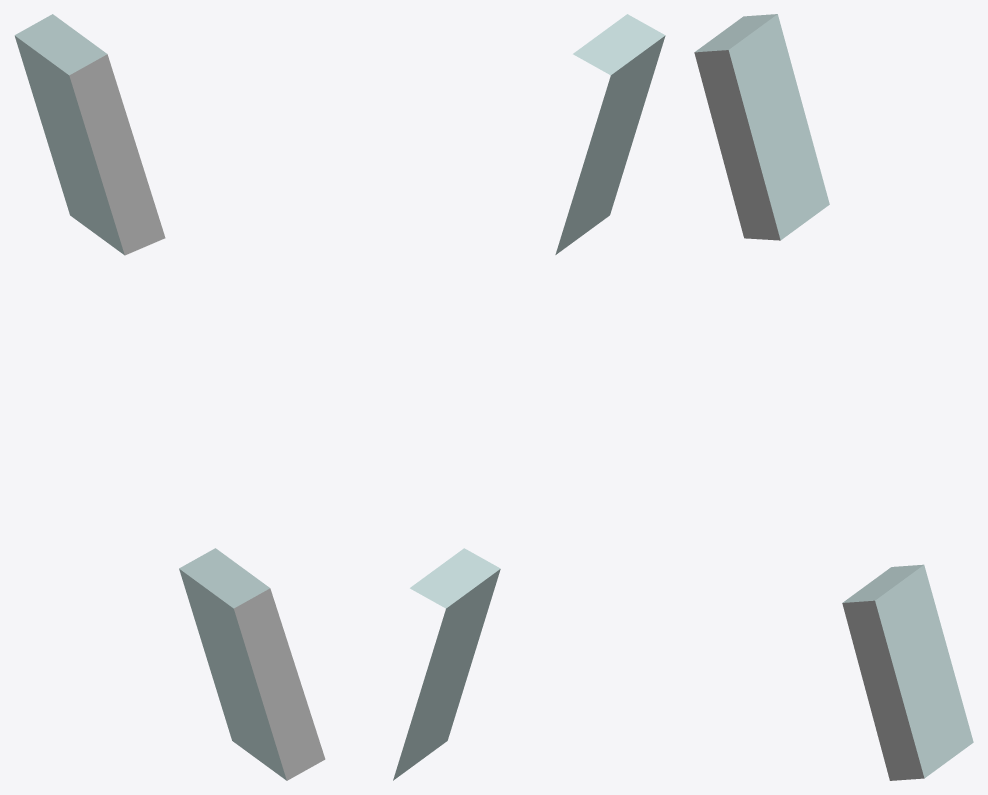
The picture shows the model from 3 angles, left to right: view 1: azimuth 30°, elevation 25°; view 2: azimuth 150°, elevation 25°; view 3: azimuth 330°, elevation 25°; orthographic projection. The views are drawn at different scales.
Visible parts, largest first — view 1: 0_2_2_3_2_1_0_3_0; view 2: 0_2_2_3_2_1_0_3_0; view 3: 0_2_2_3_2_1_0_3_0.
Part boxes in pixels (left/top/right/bottom): 0_2_2_3_2_1_0_3_0: left=14, top=14, right=325, bottom=780; 0_2_2_3_2_1_0_3_0: left=393, top=14, right=665, bottom=780; 0_2_2_3_2_1_0_3_0: left=694, top=14, right=973, bottom=780.
Size of the model in its own units: 8.1 by 23.28 by 3.01.
